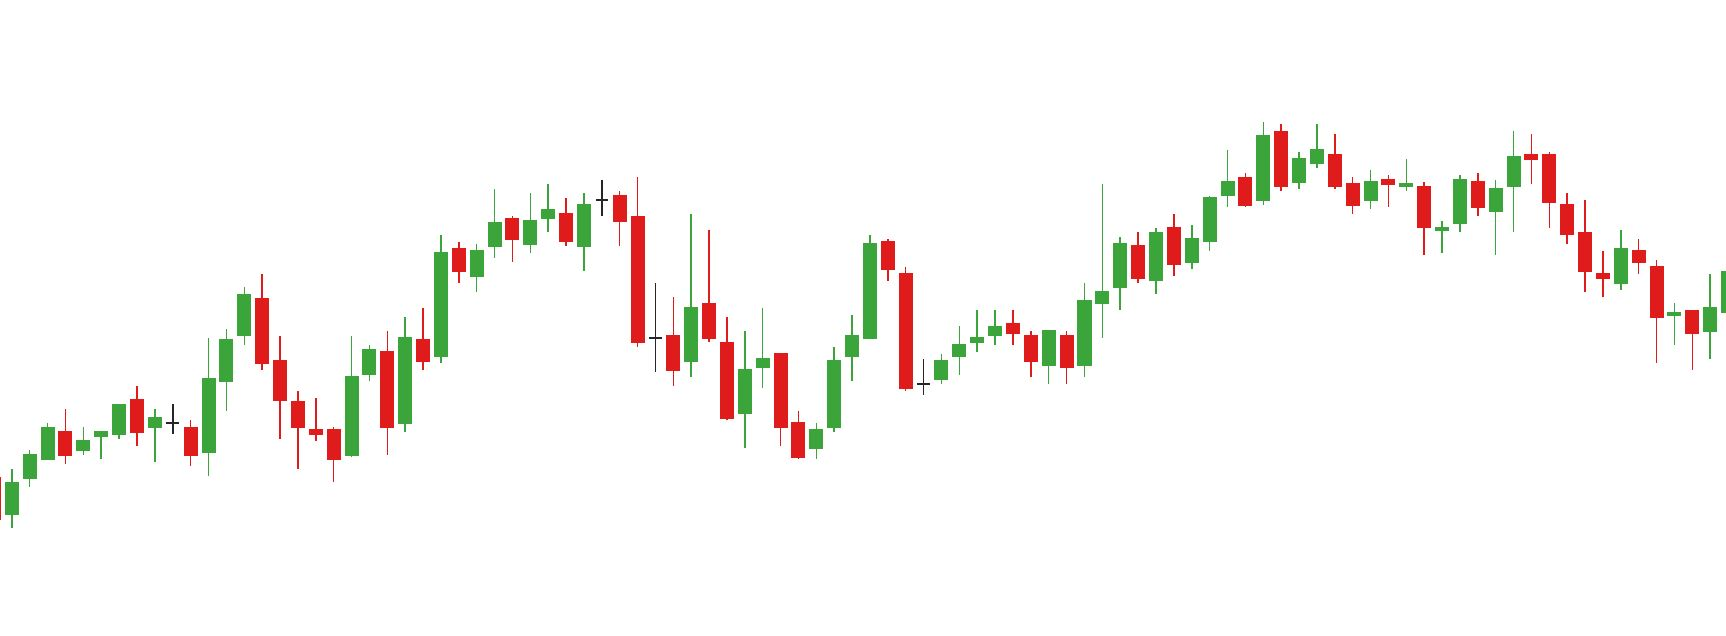buy: (179, 344, 363, 484)
sell: (1397, 131, 1538, 227)
